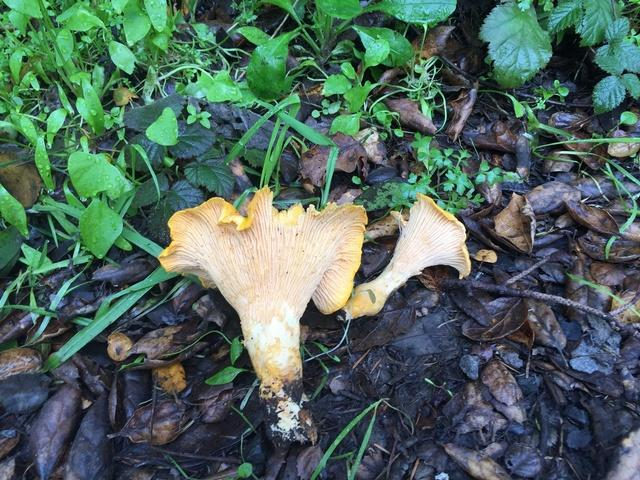Edible Mushroom: (157, 184, 368, 446), (355, 197, 473, 323)
